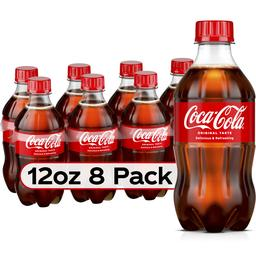plastic: (169, 11, 256, 234), (2, 79, 68, 211), (66, 72, 120, 200), (118, 75, 170, 206), (3, 60, 41, 200), (104, 61, 143, 120), (56, 64, 84, 123)
